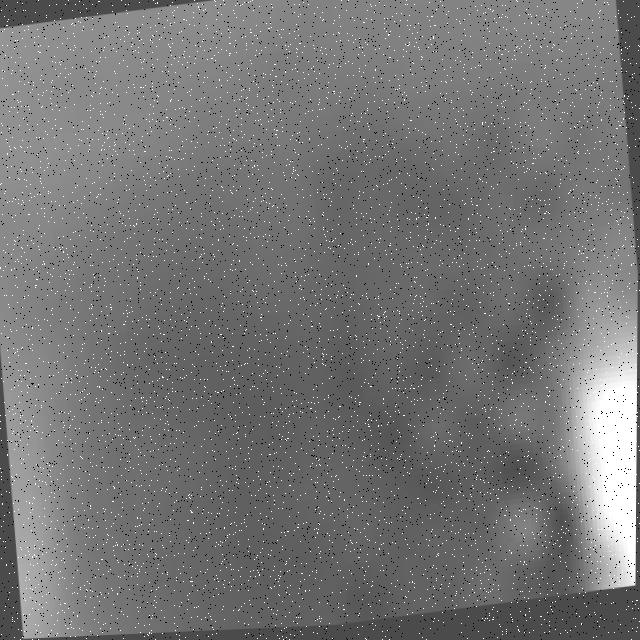person: (527, 244, 639, 602)
